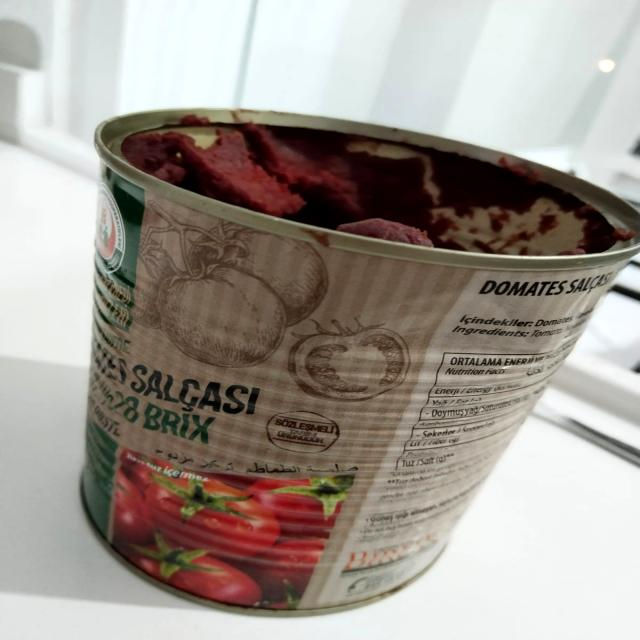tomato paste: (94, 110, 610, 621)
